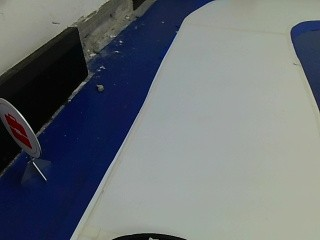company: (0, 95, 41, 159)
